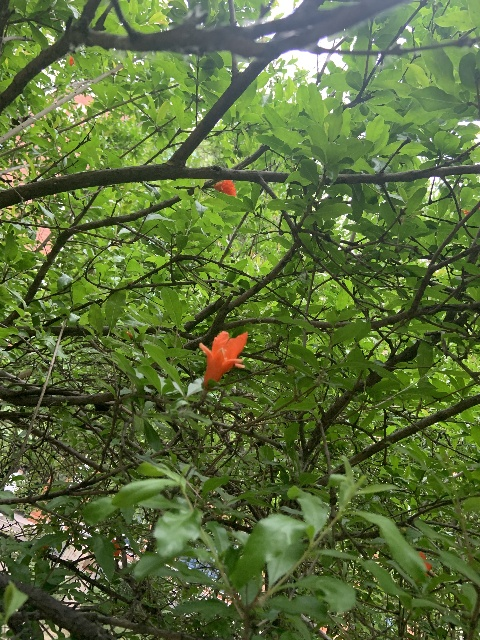flower: (198, 329, 247, 390), (212, 179, 236, 196), (419, 551, 431, 575)
